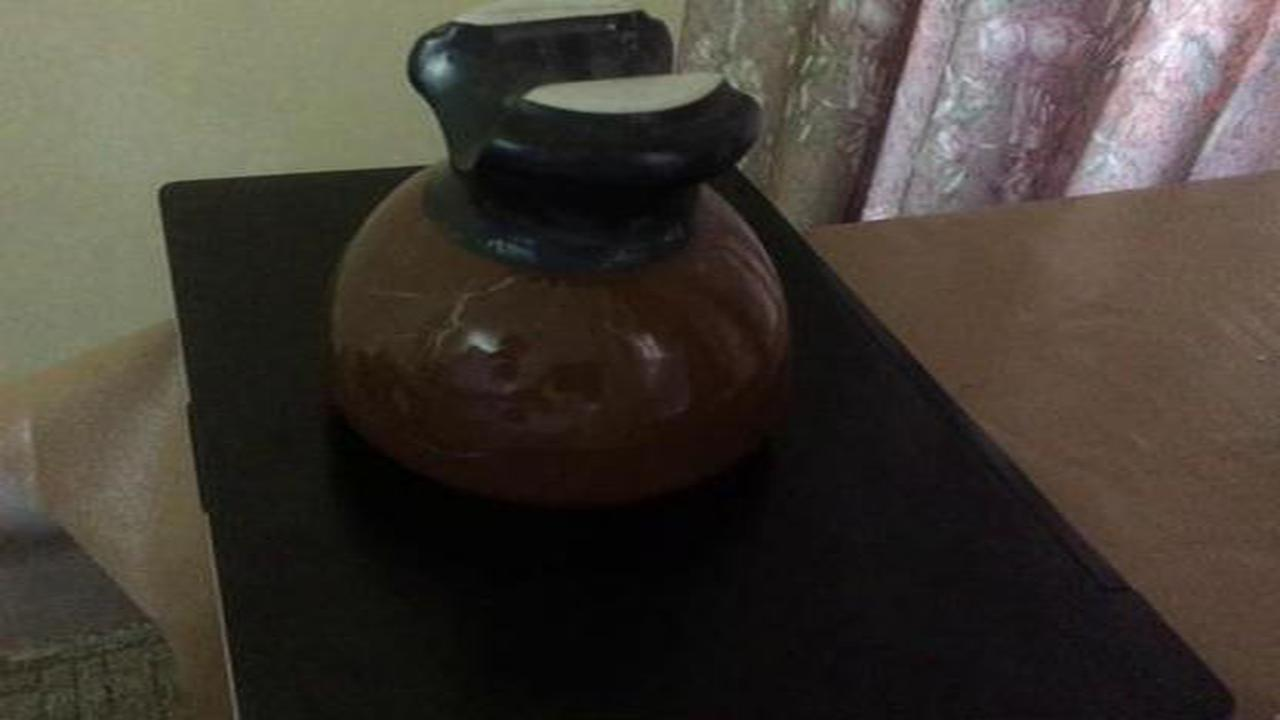insulator_pin: (296, 9, 816, 541)
